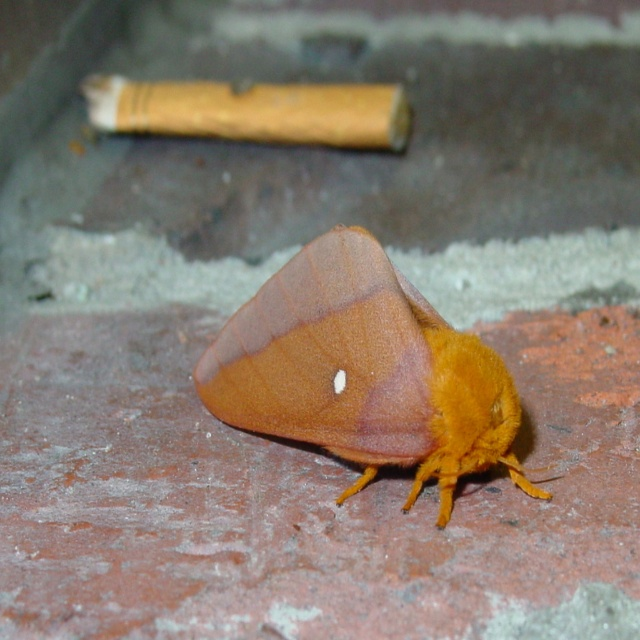Moths and butterflies: (192, 220, 553, 530)
